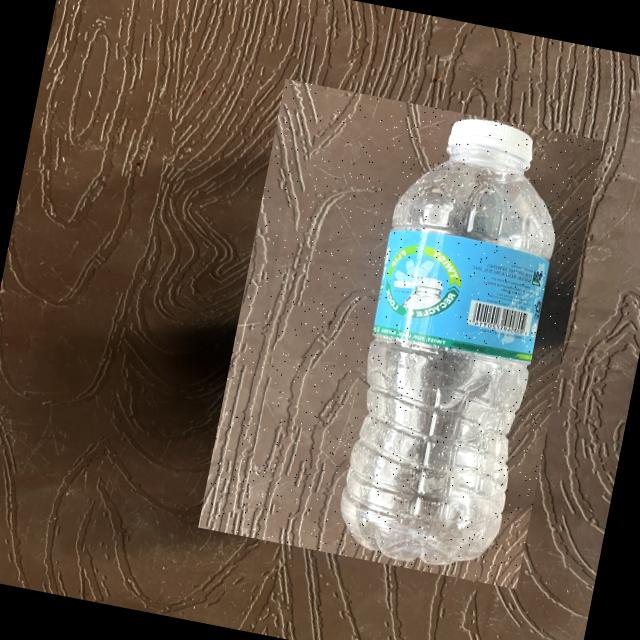REJECT: (199, 80, 604, 590)
